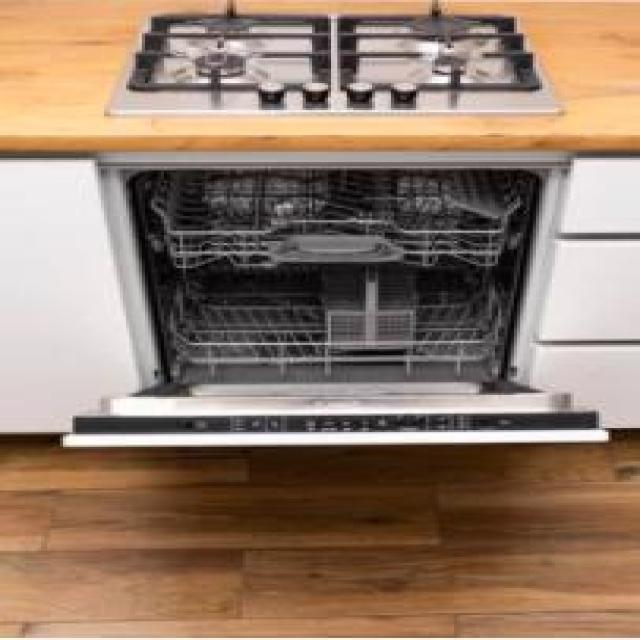dishwasher: (54, 154, 612, 455)
